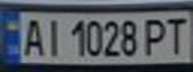0: (84, 17, 106, 59)
1: (63, 16, 87, 57)
2: (103, 17, 124, 59)
8: (118, 17, 142, 57)
A: (18, 15, 48, 57)
I: (39, 16, 66, 57)
P: (139, 15, 172, 56)
T: (163, 13, 193, 55)
